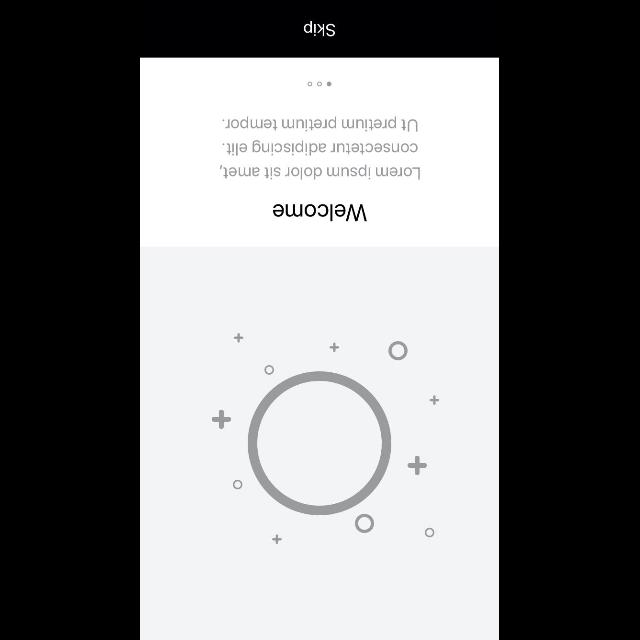image: (140, 247, 500, 639)
pageindicator: (308, 82, 332, 86)
text: (218, 116, 422, 180), (274, 204, 368, 222)
textbutton: (140, 0, 500, 58)
